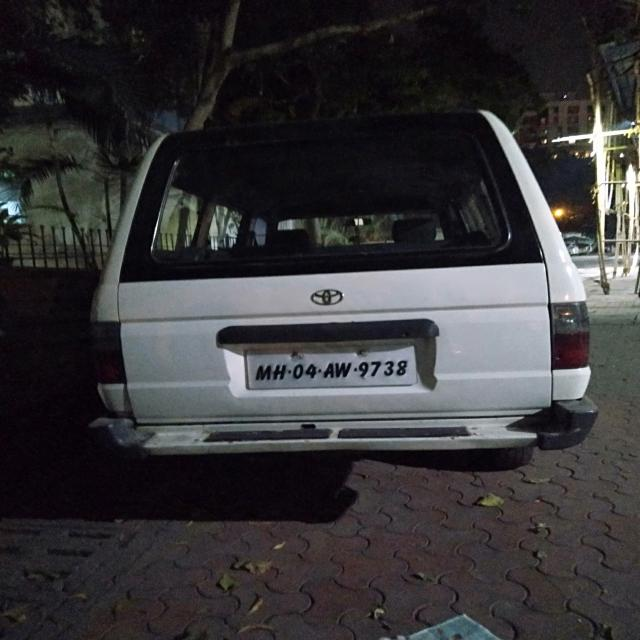Number-Plate: (248, 350, 416, 390)
